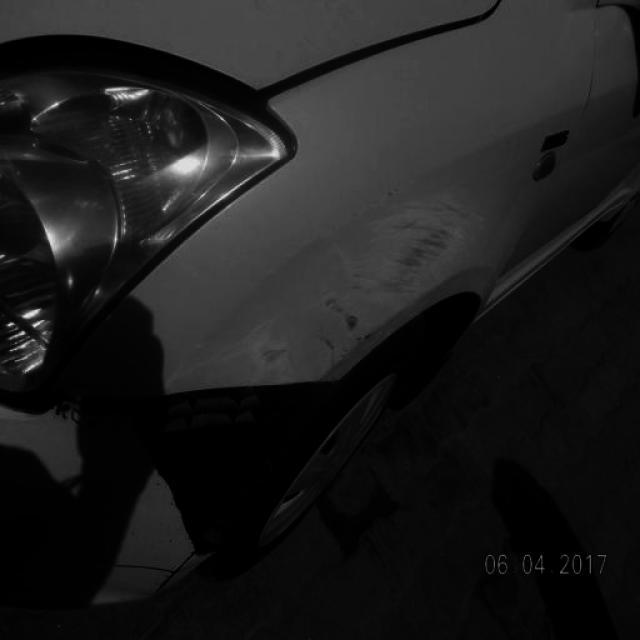car damage: (0, 384, 349, 558), (350, 192, 486, 296), (104, 548, 198, 599), (235, 319, 295, 380), (323, 290, 365, 335), (353, 324, 382, 352), (317, 331, 339, 358)
